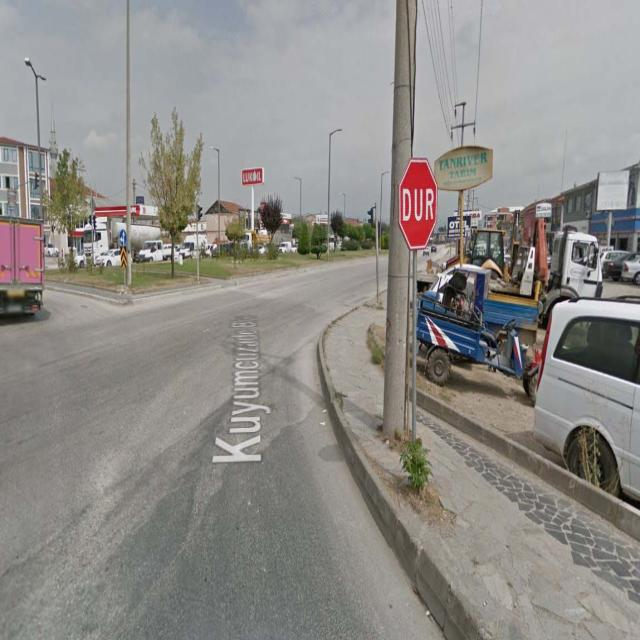dur: (400, 162, 438, 245)
ilerisol: (120, 230, 126, 245)
